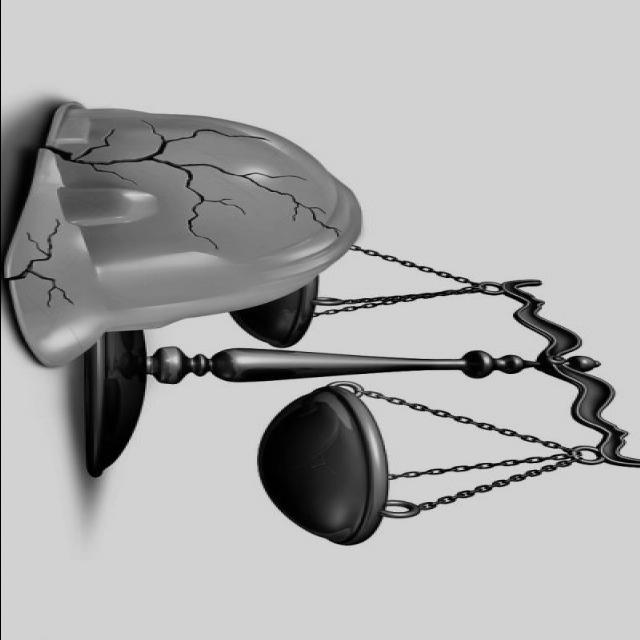safety_helmet: (0, 100, 362, 369)
